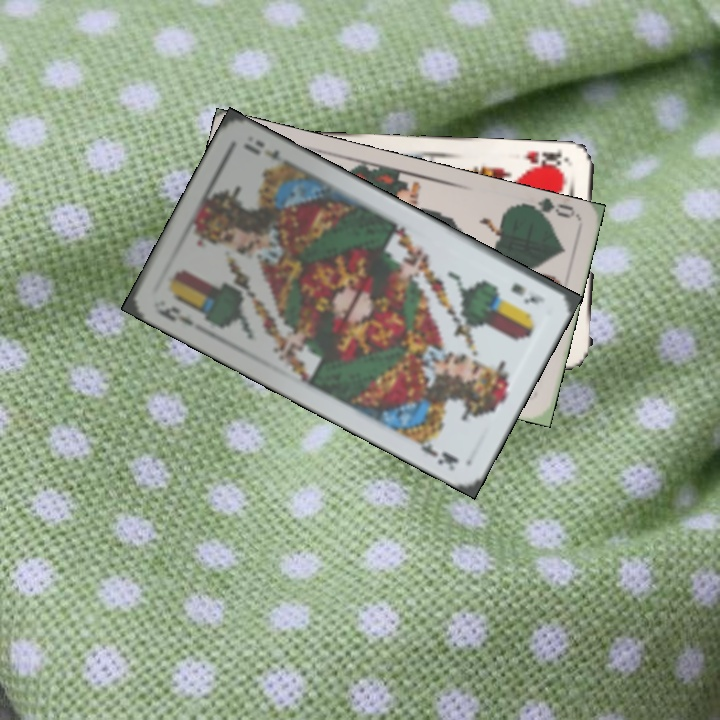EK: (154, 302, 197, 329), (507, 279, 548, 307)
GO: (517, 196, 577, 227)
HK: (521, 147, 575, 175)
